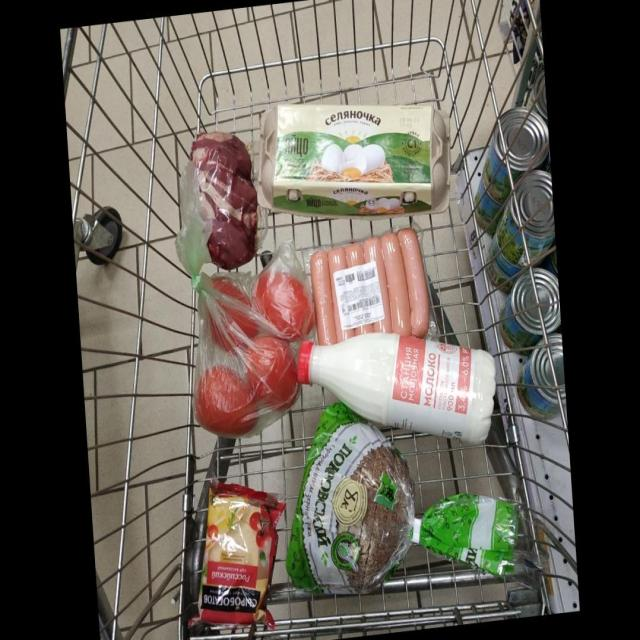Bread: (286, 404, 525, 593)
Cheese: (198, 481, 286, 628)
Eggs: (260, 105, 450, 217)
Meat: (192, 131, 259, 269)
Milk: (298, 332, 496, 444)
Sausages: (310, 226, 429, 345)
Tomatoes: (194, 365, 258, 437), (255, 271, 314, 339), (245, 335, 299, 409), (214, 276, 258, 338), (212, 319, 229, 349)
